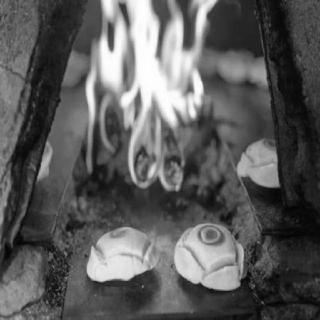Fire: (80, 1, 231, 213)
